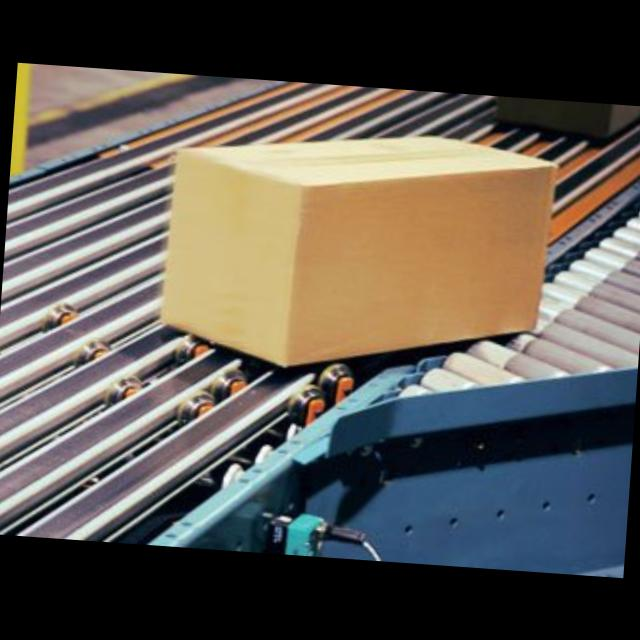box: (158, 118, 560, 380)
